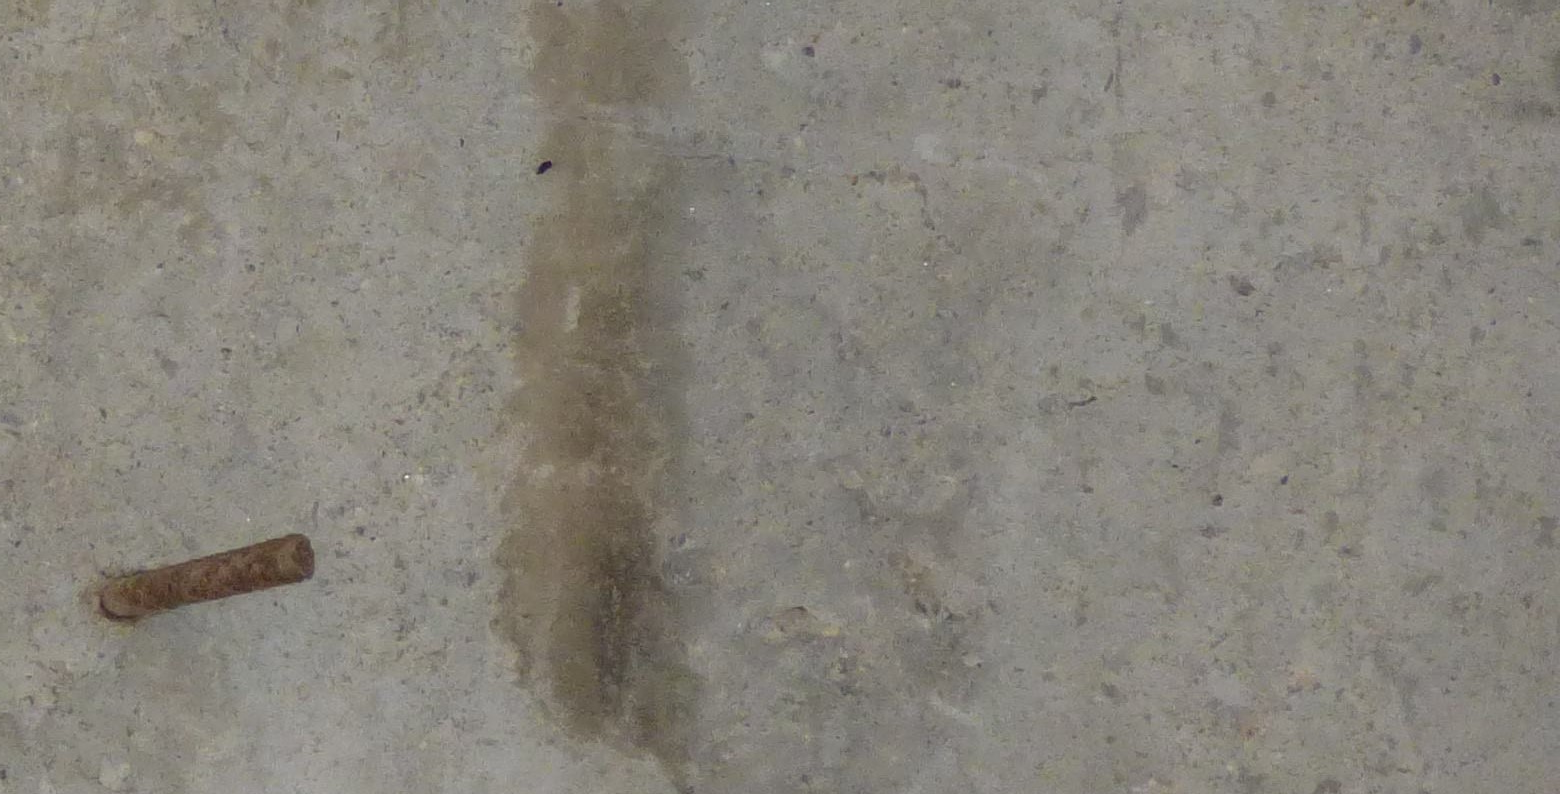Corrosion: (489, 1, 714, 794)
Exposed reinforcement: (99, 533, 317, 620)
